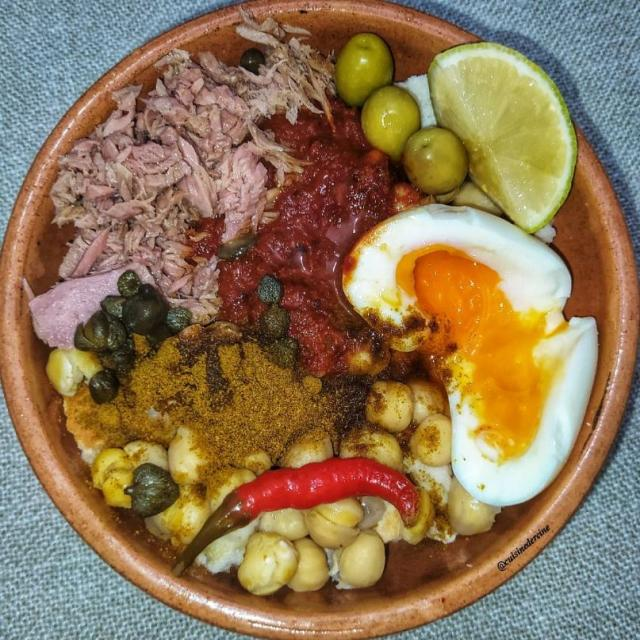Lablabi: (55, 33, 598, 621)
